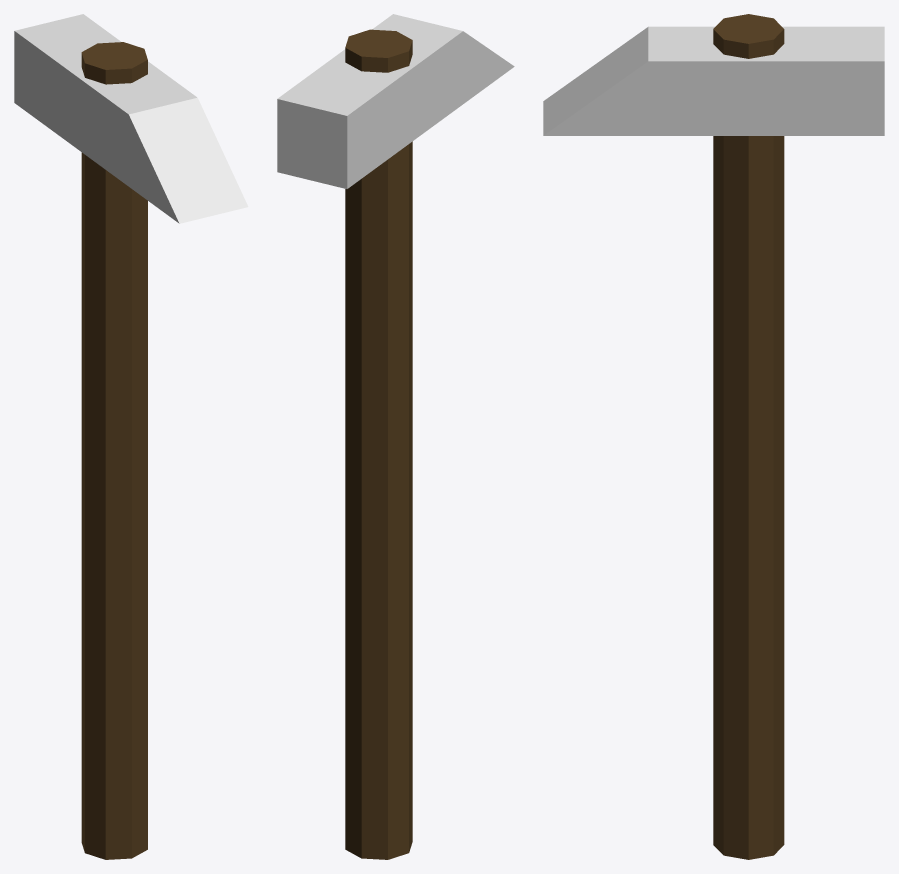
Rendered from hammer-rectangle.glb.
3 views of the same model, side by side, from view 1: azimuth 30°, elevation 25°; view 2: azimuth 150°, elevation 25°; view 3: azimuth 270°, elevation 25° (orthographic). The views are drawn at different scales.
Parts seen in each view (by area): view 1: hammer_rectangle; view 2: hammer_rectangle; view 3: hammer_rectangle.
Part boxes in pixels (bbox=[...]): hammer_rectangle: bbox=[14, 14, 248, 859]; hammer_rectangle: bbox=[277, 14, 514, 859]; hammer_rectangle: bbox=[543, 14, 884, 859].
Bounding box in the file's own units: 1.19 × 13.07 × 4.95.
